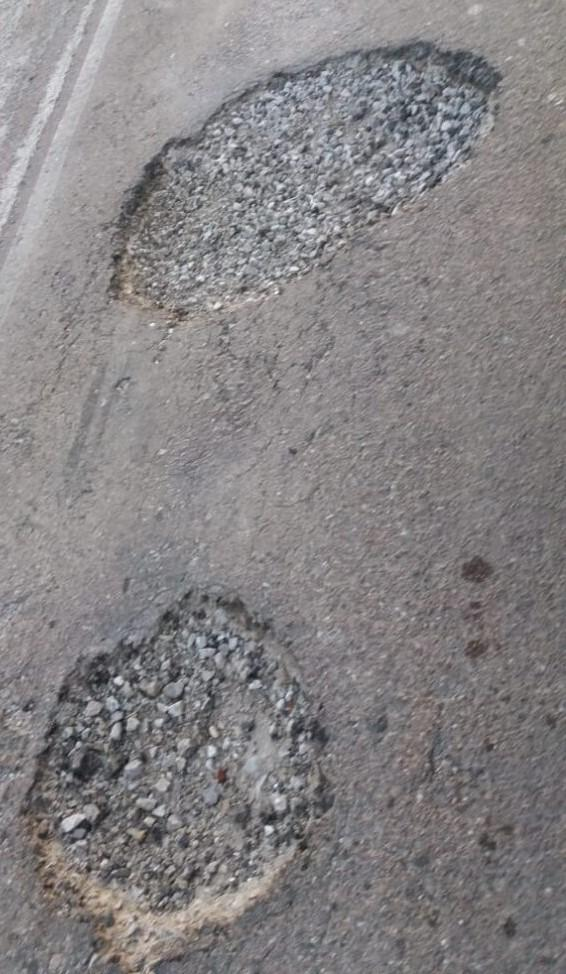pothole: (87, 32, 489, 314), (34, 600, 334, 943)
